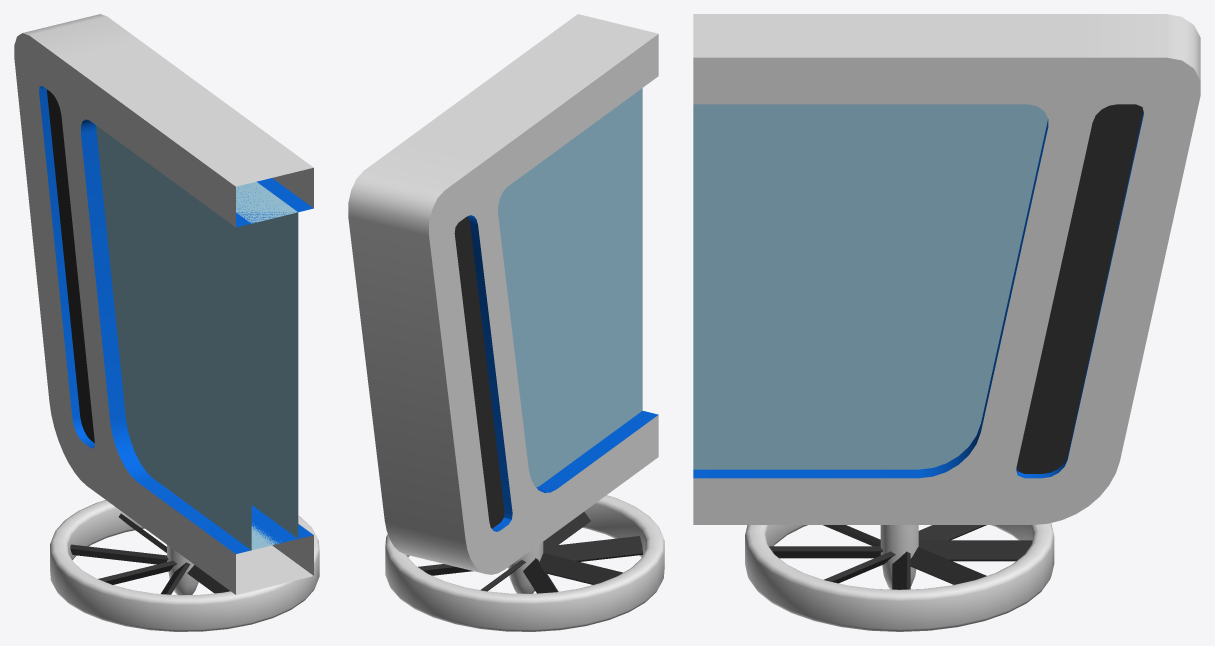
File: Wall_Ride_Right.fbx
3 views of the same model, side by side, from view 1: azimuth 30°, elevation 25°; view 2: azimuth 150°, elevation 25°; view 3: azimuth 270°, elevation 25° (orthographic). The views are drawn at different scales.
Parts seen in each view (by area): view 1: WallRideBase_Right; view 2: WallRideBase_Right; view 3: WallRideBase_Right.
Part boxes in pixels (x1,y1,x2,y2): WallRideBase_Right: (14, 14, 319, 631); WallRideBase_Right: (348, 14, 664, 631); WallRideBase_Right: (693, 14, 1200, 631).
Size of the model in its own units: 300 by 600 by 492.
